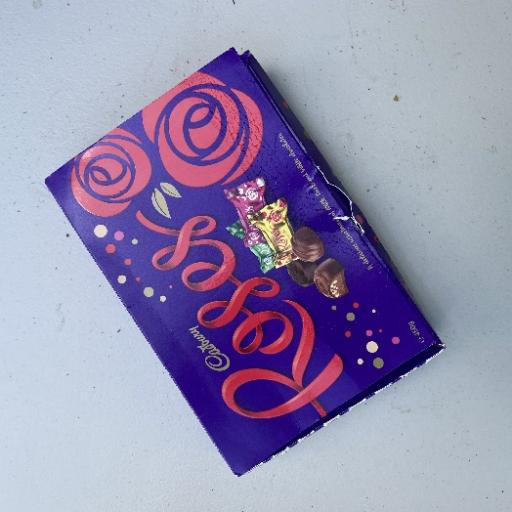Cardboard: (42, 46, 447, 477)
